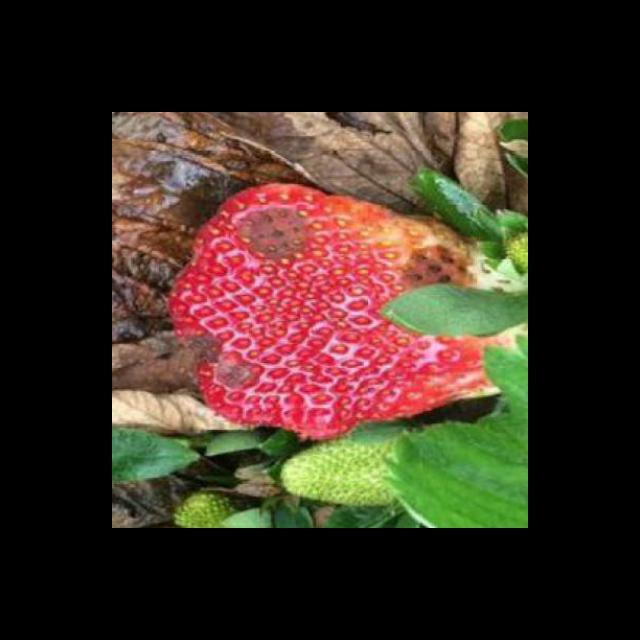Anthracnose Fruit Rot: (387, 237, 478, 295), (231, 204, 315, 262), (183, 331, 255, 390)
